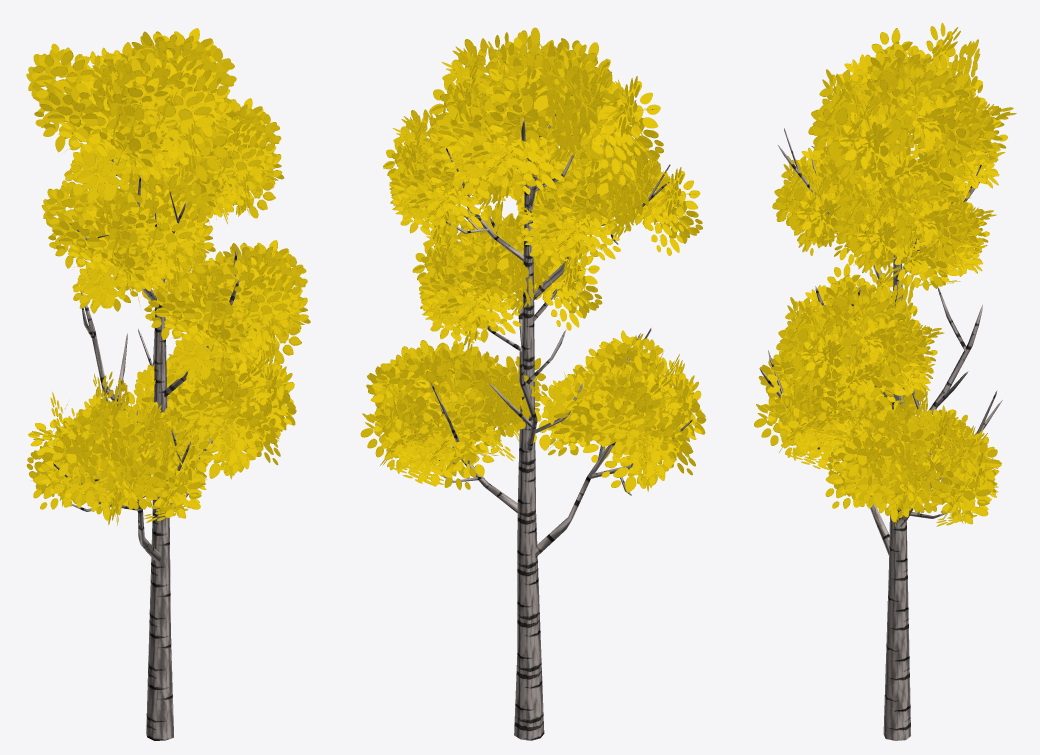
File: BirchTree_2.glb
3 views of the same model, side by side, from view 1: azimuth 30°, elevation 25°; view 2: azimuth 150°, elevation 25°; view 3: azimuth 270°, elevation 25° (orthographic). The views are drawn at different scales.
Size of the model in its own units: 3.35 by 7.57 by 2.81.
Materials: 2 (2 with a texture image).
